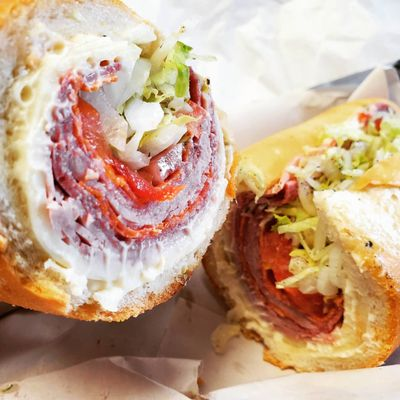soup: (0, 0, 233, 324), (204, 92, 400, 378)
